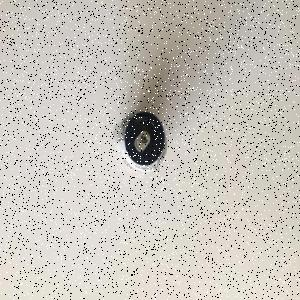Can: (113, 109, 169, 175)
